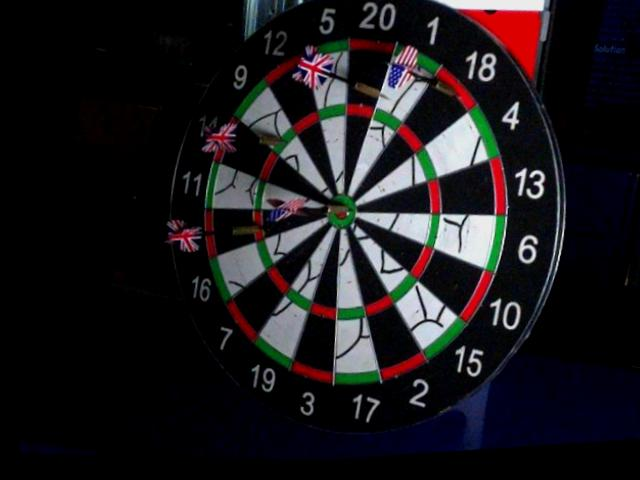bullseye: (325, 195, 357, 228)
double_18: (434, 69, 476, 113)
single_1: (378, 67, 422, 117)
triple_8: (248, 210, 263, 241)
triple_9: (270, 128, 295, 154)
